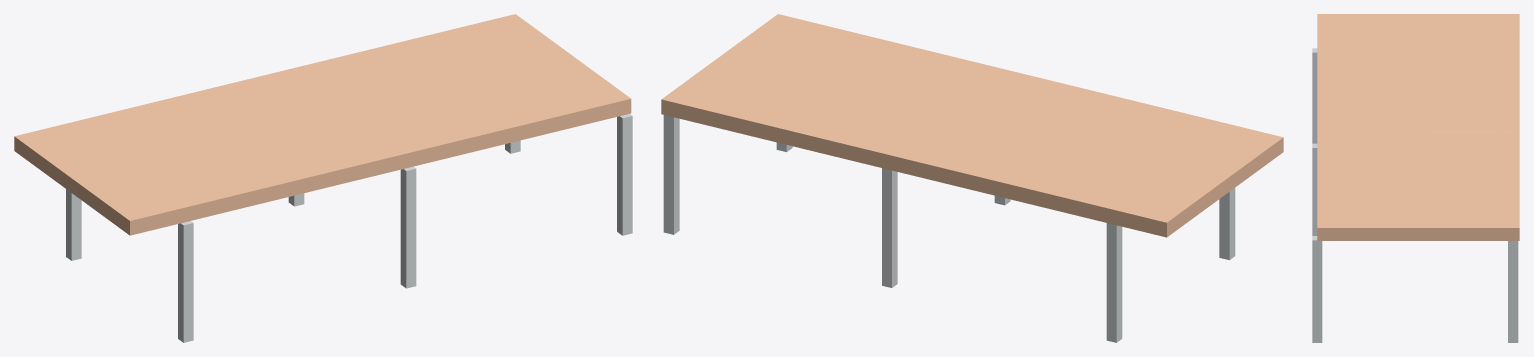
File: desk-row-d12.glb
3 views of the same model, side by side, from view 1: azimuth 30°, elevation 25°; view 2: azimuth 150°, elevation 25°; view 3: azimuth 270°, elevation 25° (orthographic). The views are drawn at different scales.
Visible parts, largest first — view 1: desktop, shared-corner-leg (×4); view 2: desktop, shared-corner-leg (×4); view 3: desktop, shared-corner-leg (×4).
Boxes of the visible parts, bbox=[...] form: desktop: bbox=[14, 14, 631, 235]; shared-corner-leg (×4): bbox=[66, 114, 632, 342]; desktop: bbox=[661, 14, 1283, 237]; shared-corner-leg (×4): bbox=[663, 115, 1235, 342]; desktop: bbox=[1317, 14, 1519, 240]; shared-corner-leg (×4): bbox=[1312, 48, 1518, 342].
Bounding box in the file's own units: 5 × 1.26 × 2.05.
Materials: 1 (1 with a texture image).
